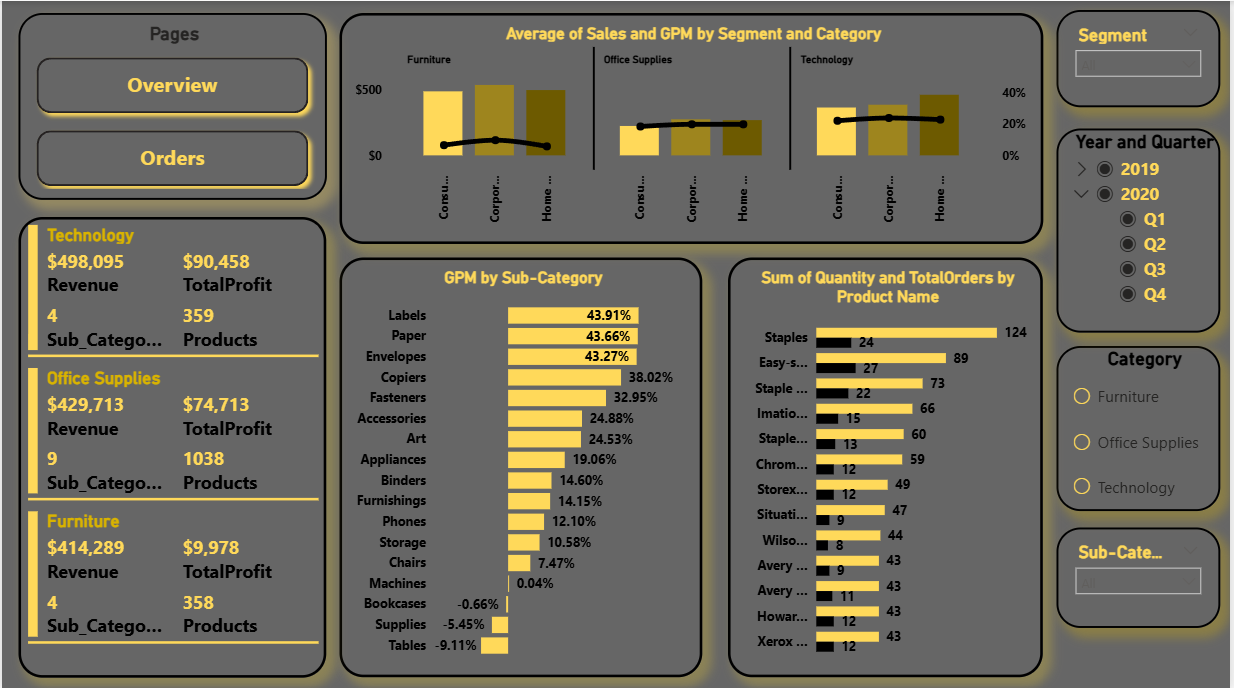

The page's visual inventory and layout, read from the dashboard file:
{"tool":"powerbi","page":{"name":"Products","canvas":[1280,720],"ordinal":1},"visuals":[{"type":"listSlicer","fields":{"Values":["Products.Category"]},"box":[1098.8,359.5,170.4,171.9],"z":0},{"type":"pageNavigator","title":"Pages","box":[17,13.2,321.3,194.6],"z":1000},{"type":"slicer","fields":{"Values":["Customers.Segment"]},"box":[1098.8,9.4,170.4,101.6],"z":2000},{"type":"lineClusteredColumnComboChart","fields":{"Y":["Avg(Orders.Sales)"],"Y2":["Orders.GPM"],"Rows":["Products.Category"],"Category":["Customers.Segment"]},"box":[351.7,12.5,733,240.7],"z":3000},{"type":"clusteredBarChart","fields":{"Category":["Products.Product Name"],"Y":["Sum(Orders.Quantity)","Orders.TotalOrders"]},"box":[756.5,267.3,328.2,437.6],"z":4000},{"type":"slicer","fields":{"Values":["Products.Sub-Category"]},"box":[1098.8,548.6,170.4,104.7],"z":5000},{"type":"clusteredBarChart","fields":{"Category":["Products.Sub-Category"],"Y":["Orders.GPM"]},"box":[351.7,267.3,378.2,437.6],"z":6000},{"type":"multiRowCard","fields":{"Values":["Orders.Revenue","Orders.TotalProfit","Products.Category","Orders.Sub_Categorys","Orders.Products"]},"box":[17.2,225.1,320.4,479.8],"z":7000},{"type":"listSlicer","fields":{"Values":["Date.Year Hierarchy.Year","Date.Year Hierarchy.Quarter"]},"box":[1098.8,132.9,170.4,212.6],"z":8000}]}

Visuals, with their boxes in screenshot pixels (x1, y1, x2, y2), scaled from the page's 1280x720 canvas onto the 1234x688 screenshot:
listSlicer - Products.Category: l=1059, t=344, r=1224, b=508
"Pages" pageNavigator: l=16, t=13, r=326, b=199
slicer - Customers.Segment: l=1059, t=9, r=1224, b=106
lineClusteredColumnComboChart - Avg(Orders.Sales) x Orders.GPM: l=339, t=12, r=1046, b=242
clusteredBarChart - Products.Product Name x Sum(Orders.Quantity): l=729, t=255, r=1046, b=674
slicer - Products.Sub-Category: l=1059, t=524, r=1224, b=624
clusteredBarChart - Products.Sub-Category x Orders.GPM: l=339, t=255, r=704, b=674
multiRowCard - Orders.Revenue x Orders.TotalProfit: l=17, t=215, r=325, b=674
listSlicer - Date.Year Hierarchy.Year x Date.Year Hierarchy.Quarter: l=1059, t=127, r=1224, b=330
